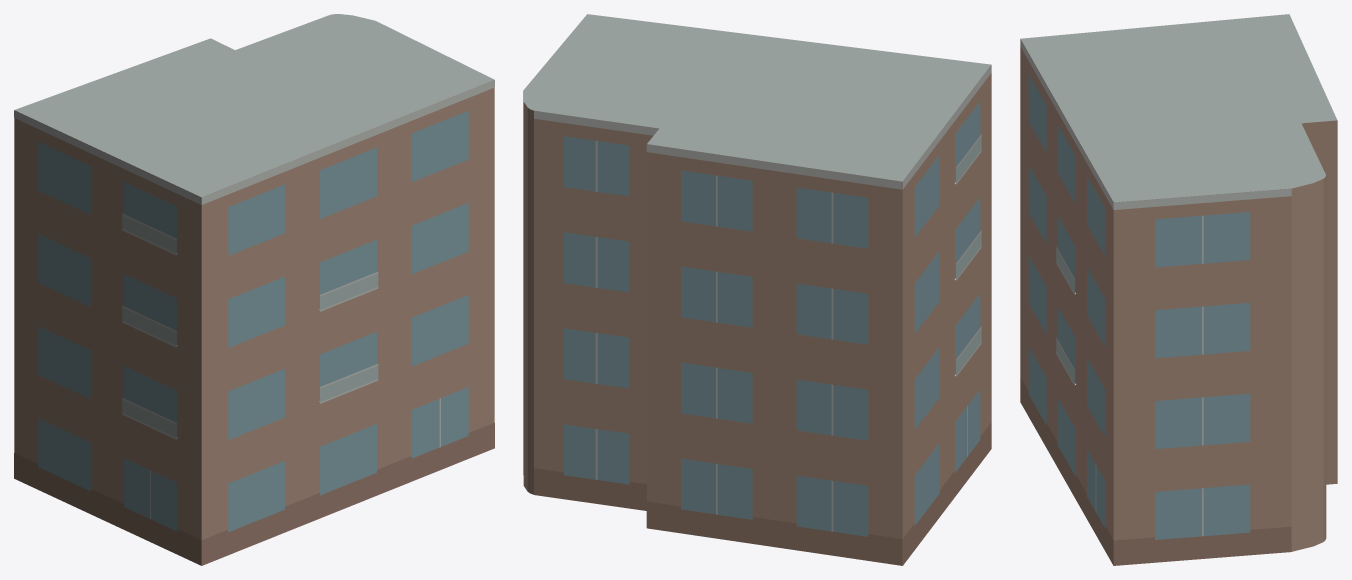
Rendered from survey-upis-33002175.glb.
3 renders of one model, left to right at view 1: azimuth 30°, elevation 25°; view 2: azimuth 150°, elevation 25°; view 3: azimuth 270°, elevation 25°, orthographic. The views are drawn at different scales.
Parts seen in each view (by area): view 1: survey-upis-33002175.tmp; view 2: survey-upis-33002175.tmp; view 3: survey-upis-33002175.tmp.
Boxes of the visible parts, box(x1,y1,x2,y2) form: survey-upis-33002175.tmp: box(14, 14, 494, 565); survey-upis-33002175.tmp: box(523, 14, 991, 565); survey-upis-33002175.tmp: box(1020, 14, 1337, 565).
Bounding box in the file's own units: 12.91 × 11.6 × 9.18.
